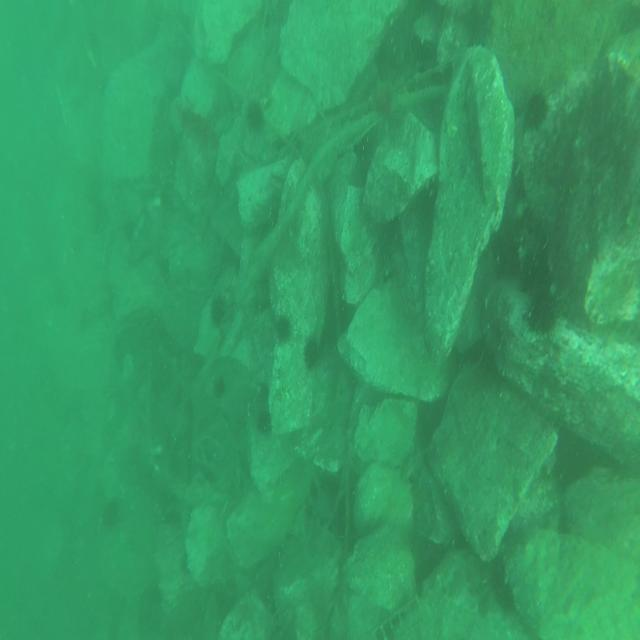echinus: (530, 295, 558, 335), (526, 89, 548, 127), (245, 101, 264, 132), (102, 498, 120, 530), (274, 313, 292, 344), (210, 296, 227, 325), (306, 336, 320, 369), (256, 408, 272, 435), (214, 378, 226, 400)
